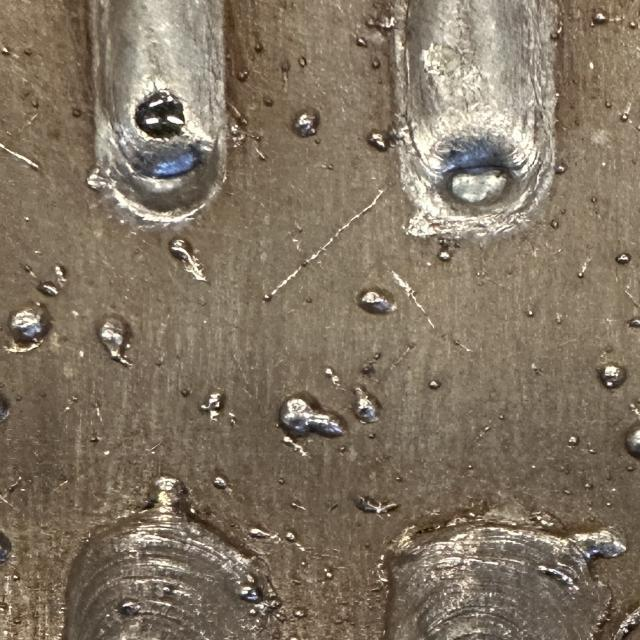Excess Reinforcement: (483, 493, 568, 538), (130, 472, 198, 525), (572, 529, 627, 559), (86, 161, 109, 192)
Porosity: (134, 93, 187, 141)
Spatters: (263, 190, 384, 301), (280, 398, 343, 438), (7, 302, 52, 352), (97, 314, 132, 366), (168, 238, 207, 281), (0, 144, 38, 170), (358, 290, 397, 314), (37, 265, 67, 296), (353, 386, 378, 422), (355, 496, 398, 514), (293, 110, 318, 138), (598, 364, 627, 388), (282, 435, 308, 457), (625, 426, 640, 459), (367, 131, 390, 151), (365, 15, 395, 30), (200, 392, 222, 411), (230, 124, 247, 147), (229, 104, 247, 125), (118, 601, 142, 616), (240, 586, 260, 602), (280, 60, 290, 92), (577, 259, 590, 278), (248, 528, 272, 538), (615, 252, 632, 264), (620, 104, 632, 121), (23, 265, 37, 279), (213, 476, 228, 489), (455, 341, 472, 351), (530, 362, 543, 375), (593, 12, 607, 24), (437, 250, 452, 261), (628, 316, 640, 328), (428, 380, 442, 390), (293, 609, 307, 618), (298, 56, 308, 68), (568, 436, 580, 446), (292, 502, 307, 510), (237, 71, 248, 81), (285, 531, 295, 542), (323, 568, 333, 579), (248, 607, 259, 617), (255, 148, 265, 159), (162, 585, 174, 594), (253, 42, 263, 52), (372, 58, 382, 68), (550, 219, 560, 229), (72, 108, 82, 118), (357, 38, 367, 47), (180, 389, 190, 398), (90, 435, 102, 442), (0, 46, 10, 54), (263, 98, 273, 106), (338, 445, 348, 452), (628, 21, 637, 28), (23, 49, 32, 56), (557, 314, 563, 324), (395, 476, 403, 482), (588, 449, 597, 454), (278, 478, 285, 484), (590, 196, 597, 202), (15, 395, 22, 401), (585, 484, 593, 489), (627, 466, 635, 471), (34, 250, 42, 255), (563, 490, 572, 494), (527, 310, 533, 316), (72, 396, 78, 402), (368, 434, 375, 439), (483, 426, 489, 431), (315, 139, 322, 143), (468, 465, 473, 469), (562, 209, 567, 213)
